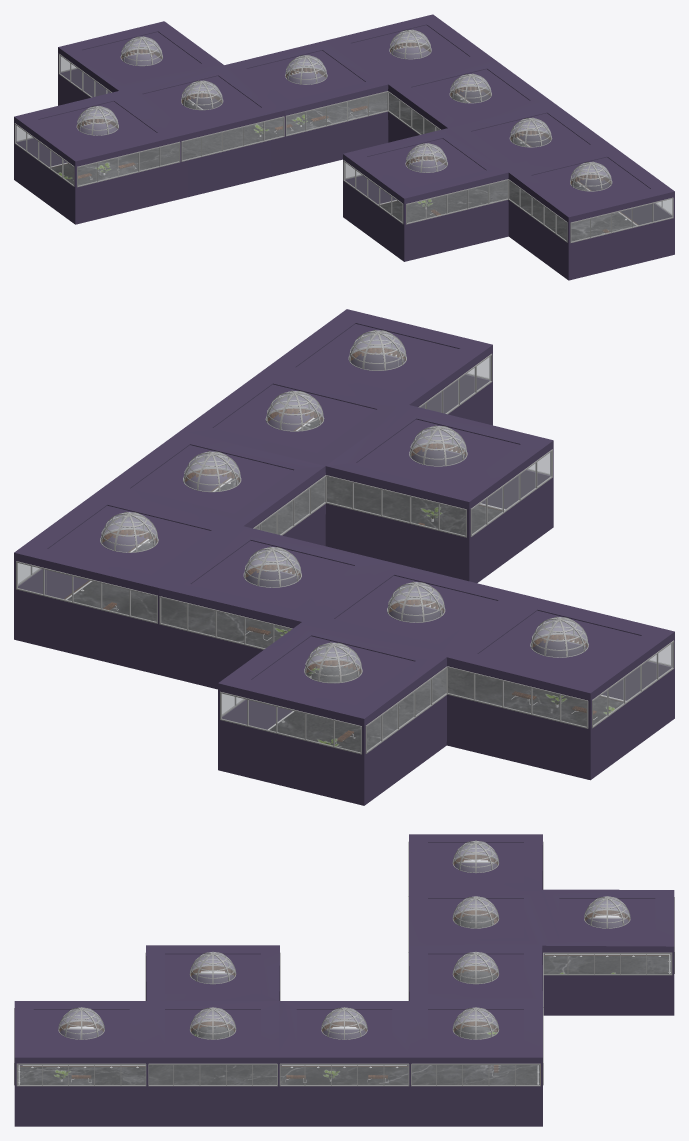
Rendered from galeria.glb.
3 views of the same model, one above another, from view 1: azimuth 30°, elevation 25°; view 2: azimuth 150°, elevation 25°; view 3: azimuth 270°, elevation 25° (orthographic). The views are drawn at different scales.
Parts seen in each view (by area): view 1: wall, ceiling, windows, floor, sphere, sphere_007, sphere_005, sphere_004, sphere_001, sphere_008, sphere_002, sphere_003 (+1 smaller); view 2: wall, ceiling, windows, floor, sphere_007, sphere_008, sphere_001, sphere_002, sphere_006, sphere_004, sphere_005, sphere_003 (+1 smaller); view 3: wall, ceiling, windows, floor, sphere_004, sphere_001, sphere_006, sphere, sphere_007, sphere_008, sphere_002, sphere_003 (+2 smaller).
Boxes of the visible parts, bbox=[...] form: wall: bbox=[14, 14, 674, 280]; ceiling: bbox=[39, 25, 649, 207]; windows: bbox=[14, 46, 673, 243]; floor: bbox=[51, 92, 635, 241]; sphere: bbox=[570, 161, 612, 191]; sphere_007: bbox=[120, 36, 162, 66]; sphere_005: bbox=[76, 106, 118, 135]; sphere_004: bbox=[181, 80, 223, 110]; sphere_001: bbox=[509, 117, 552, 147]; sphere_008: bbox=[449, 73, 491, 103]; sphere_002: bbox=[405, 143, 447, 172]; sphere_003: bbox=[285, 55, 327, 84]; wall: bbox=[14, 309, 674, 805]; ceiling: bbox=[48, 324, 640, 704]; windows: bbox=[16, 352, 674, 754]; floor: bbox=[68, 417, 622, 751]; sphere_007: bbox=[304, 642, 362, 683]; sphere_008: bbox=[183, 451, 241, 492]; sphere_001: bbox=[265, 390, 324, 431]; sphere_002: bbox=[409, 425, 467, 466]; sphere_006: bbox=[100, 511, 158, 552]; sphere_004: bbox=[387, 581, 445, 622]; sphere_005: bbox=[530, 616, 588, 657]; sphere_003: bbox=[243, 546, 301, 587]; wall: bbox=[14, 834, 674, 1126]; ceiling: bbox=[33, 843, 655, 1049]; windows: bbox=[14, 841, 674, 1086]; floor: bbox=[17, 915, 671, 1084]; sphere_004: bbox=[452, 896, 499, 928]; sphere_001: bbox=[189, 1007, 236, 1039]; sphere_006: bbox=[452, 1007, 499, 1039]; sphere: bbox=[58, 1007, 104, 1039]; sphere_007: bbox=[584, 896, 630, 928]; sphere_008: bbox=[321, 1007, 367, 1039]; sphere_002: bbox=[189, 951, 236, 984]; sphere_003: bbox=[452, 951, 499, 984].
Bounding box in the file's own units: 40.29 × 7.53 × 50.29.
10 materials, 3 textured.
